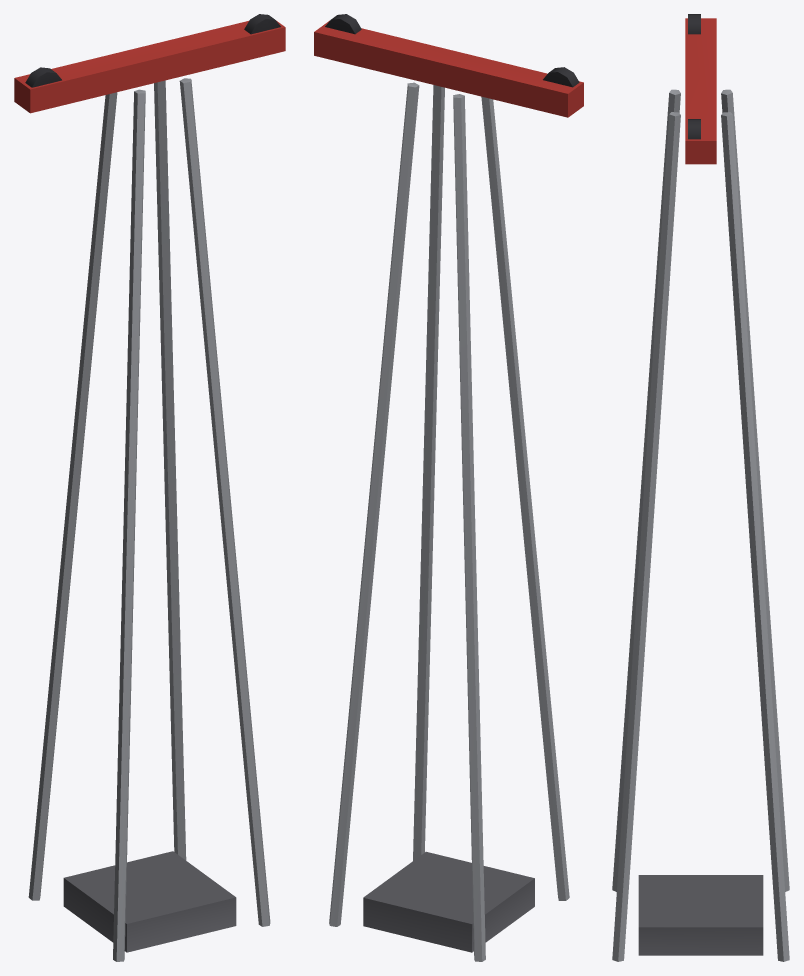
The model's file is prop.glacier_pylon.lod1.glb.
3 views of the same model, side by side, from view 1: azimuth 30°, elevation 25°; view 2: azimuth 150°, elevation 25°; view 3: azimuth 270°, elevation 25° (orthographic).
Parts seen in each view (by area): view 1: glacier_pylon; view 2: glacier_pylon; view 3: glacier_pylon.
Boxes of the visible parts, box(x1,y1,x2,y2) form: glacier_pylon: box(14, 14, 285, 961); glacier_pylon: box(314, 14, 583, 961); glacier_pylon: box(612, 14, 789, 961).
Size of the model in its own units: 5.6 by 18.35 by 3.43.
